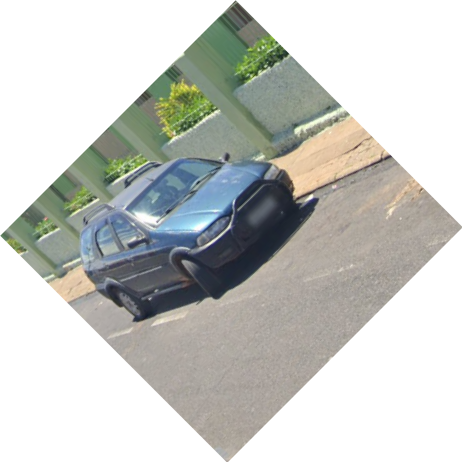car: (76, 149, 298, 326)
